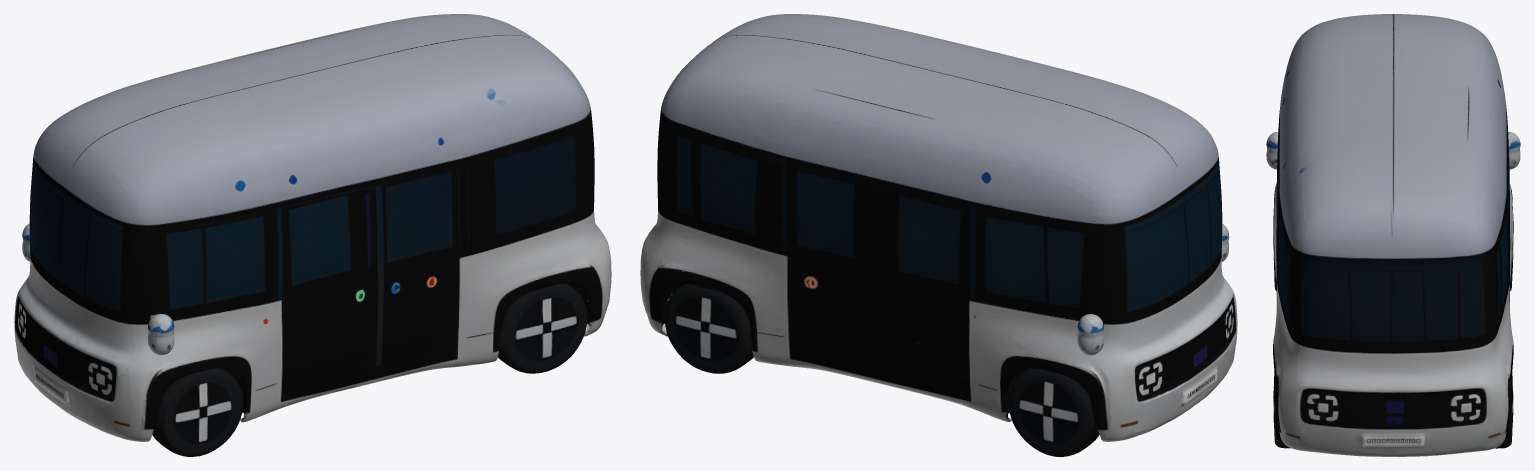
Rendered from roii_vehicle.dae.
The picture shows the model from 3 angles, left to right: view 1: azimuth 30°, elevation 25°; view 2: azimuth 150°, elevation 25°; view 3: azimuth 270°, elevation 25°; orthographic projection. The views are drawn at different scales.
Visible parts, largest first — view 1: node0; view 2: node0; view 3: node0.
Boxes of the visible parts, x1,y1,x2,y2 form: node0: (14,14,611,456); node0: (640,14,1237,456); node0: (1266,14,1520,456).
Size of the model in its own units: 4.5 by 2.44 by 2.07.
Materials: 1 (1 with a texture image).
